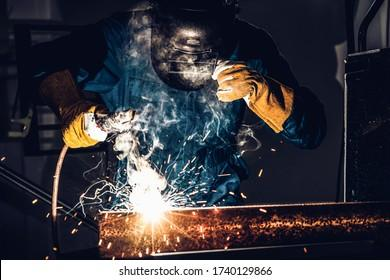gloves: (211, 51, 296, 135), (41, 70, 109, 150)
